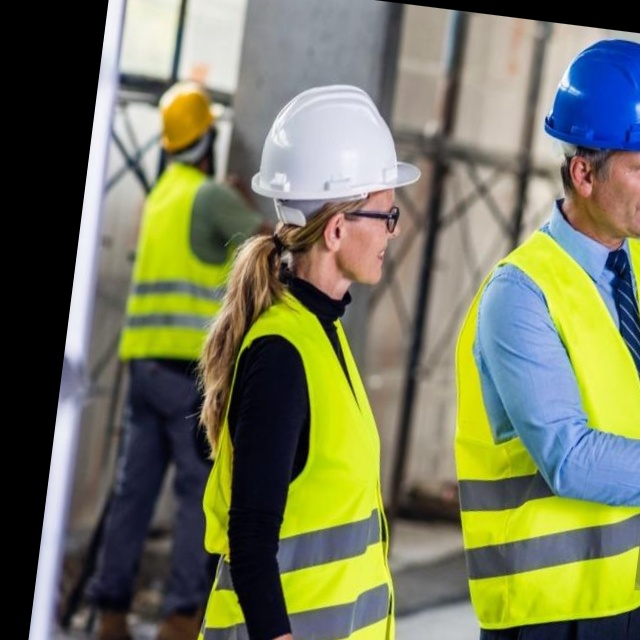Con_Casco: (241, 75, 434, 299), (534, 30, 640, 235)
Con_Chaleco: (186, 297, 441, 640), (437, 216, 640, 631)
